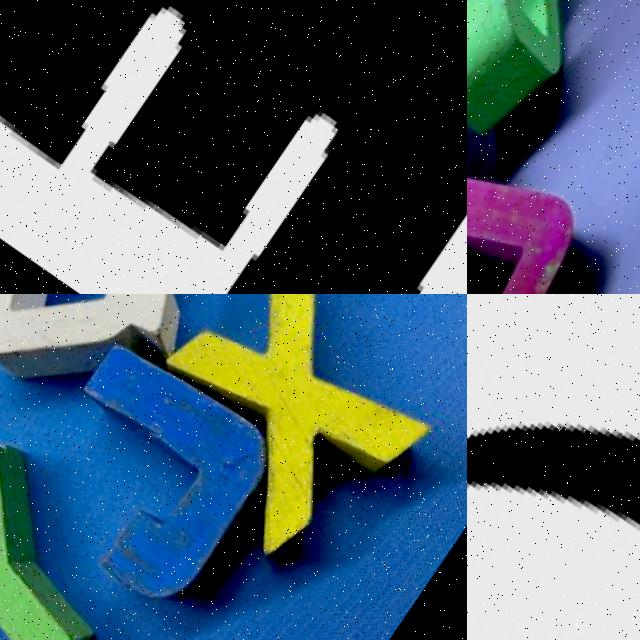C: (467, 0, 635, 159), (467, 420, 640, 529)
D: (467, 0, 511, 294)
G: (467, 109, 635, 294)
Q: (0, 294, 235, 442)
X: (99, 294, 467, 585)
Y: (0, 421, 173, 640)
